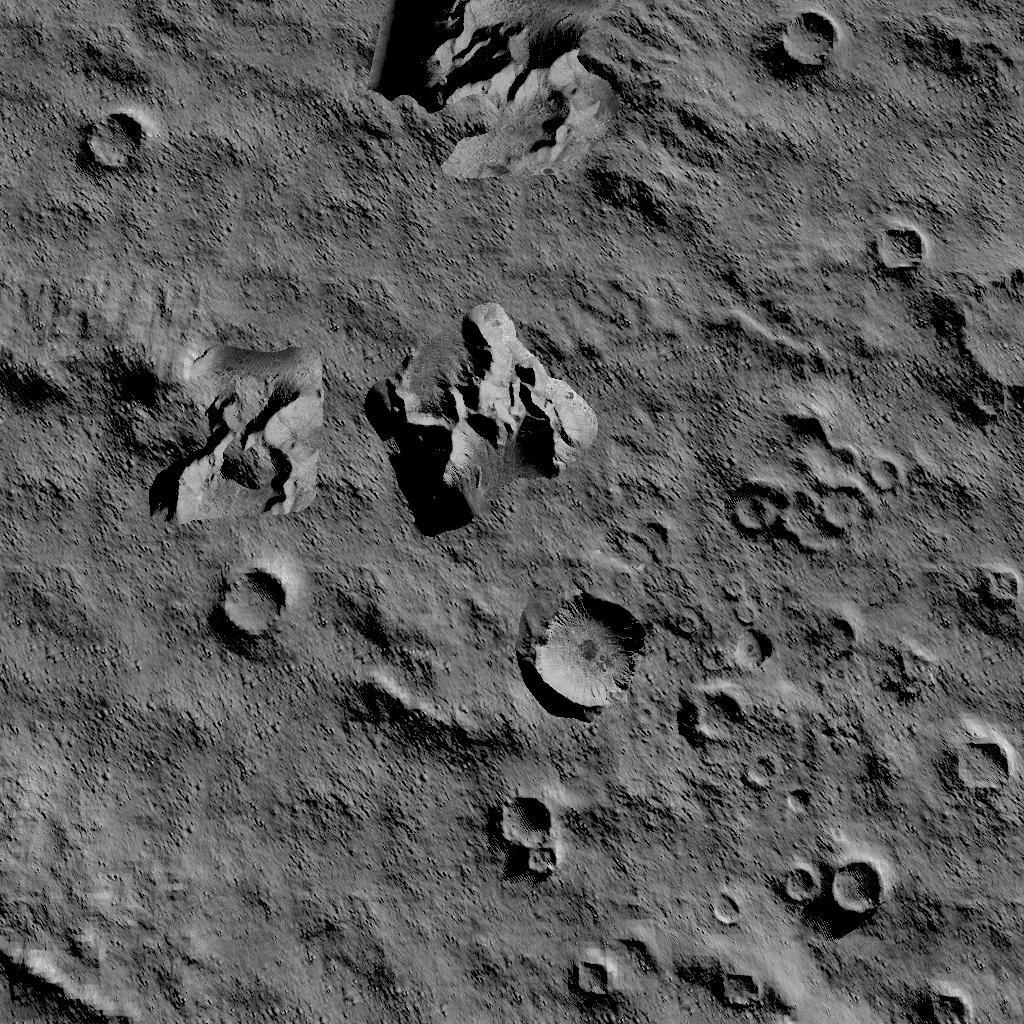Boulders: (0, 286, 326, 542), (357, 0, 646, 203), (358, 306, 604, 542), (346, 672, 492, 770), (124, 0, 300, 79), (902, 2, 1024, 109), (332, 570, 450, 656), (0, 944, 98, 1024)
Crater: (717, 386, 902, 576), (510, 582, 656, 720), (934, 276, 1024, 430), (680, 686, 786, 804), (202, 566, 298, 674), (776, 858, 892, 942), (479, 796, 558, 903), (752, 0, 844, 79), (70, 106, 155, 191), (945, 732, 1020, 816), (848, 220, 920, 292), (964, 560, 1024, 630), (802, 604, 858, 676), (565, 966, 625, 1020), (897, 982, 972, 1024), (719, 962, 766, 1024)
Plan surface: (10, 560, 188, 890), (125, 914, 558, 1022), (210, 682, 336, 902), (342, 778, 470, 903)
